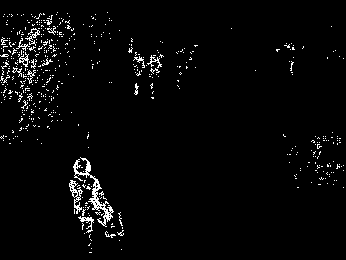person: (68, 156, 124, 246), (149, 54, 163, 101), (131, 50, 144, 96)
